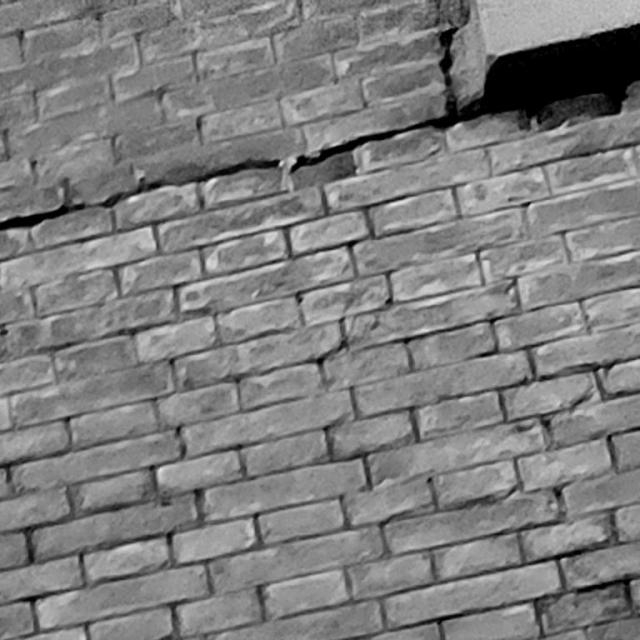crack: (1, 24, 640, 229)
